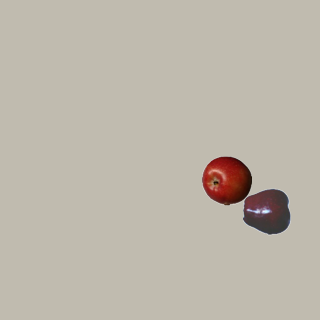Apple Braeburn: (201, 155, 251, 205)
Apple Red Delicious: (242, 186, 292, 236)
